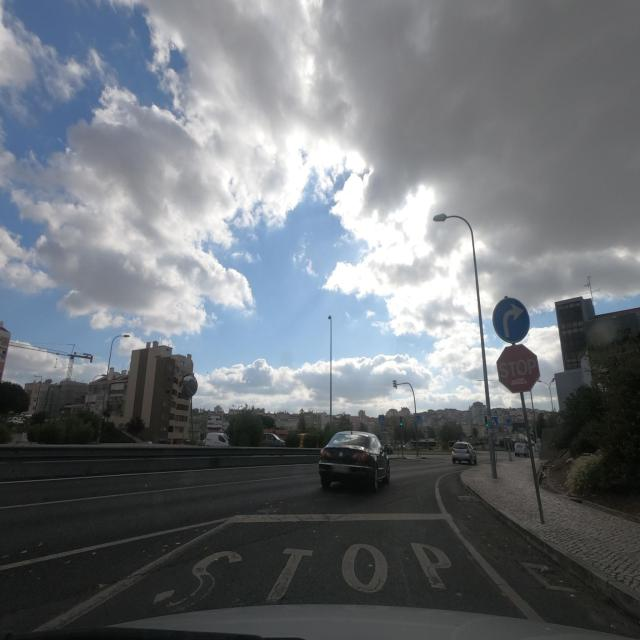car: (318, 430, 391, 492), (451, 442, 478, 465), (203, 431, 230, 447), (262, 432, 286, 444), (514, 441, 530, 457)
